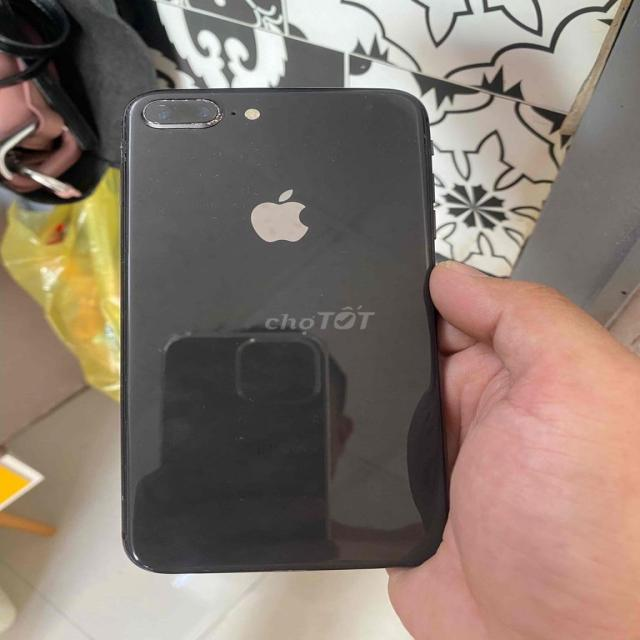scratch: (118, 90, 230, 168), (235, 121, 408, 163), (130, 170, 274, 218), (354, 91, 425, 112), (412, 127, 432, 177)
